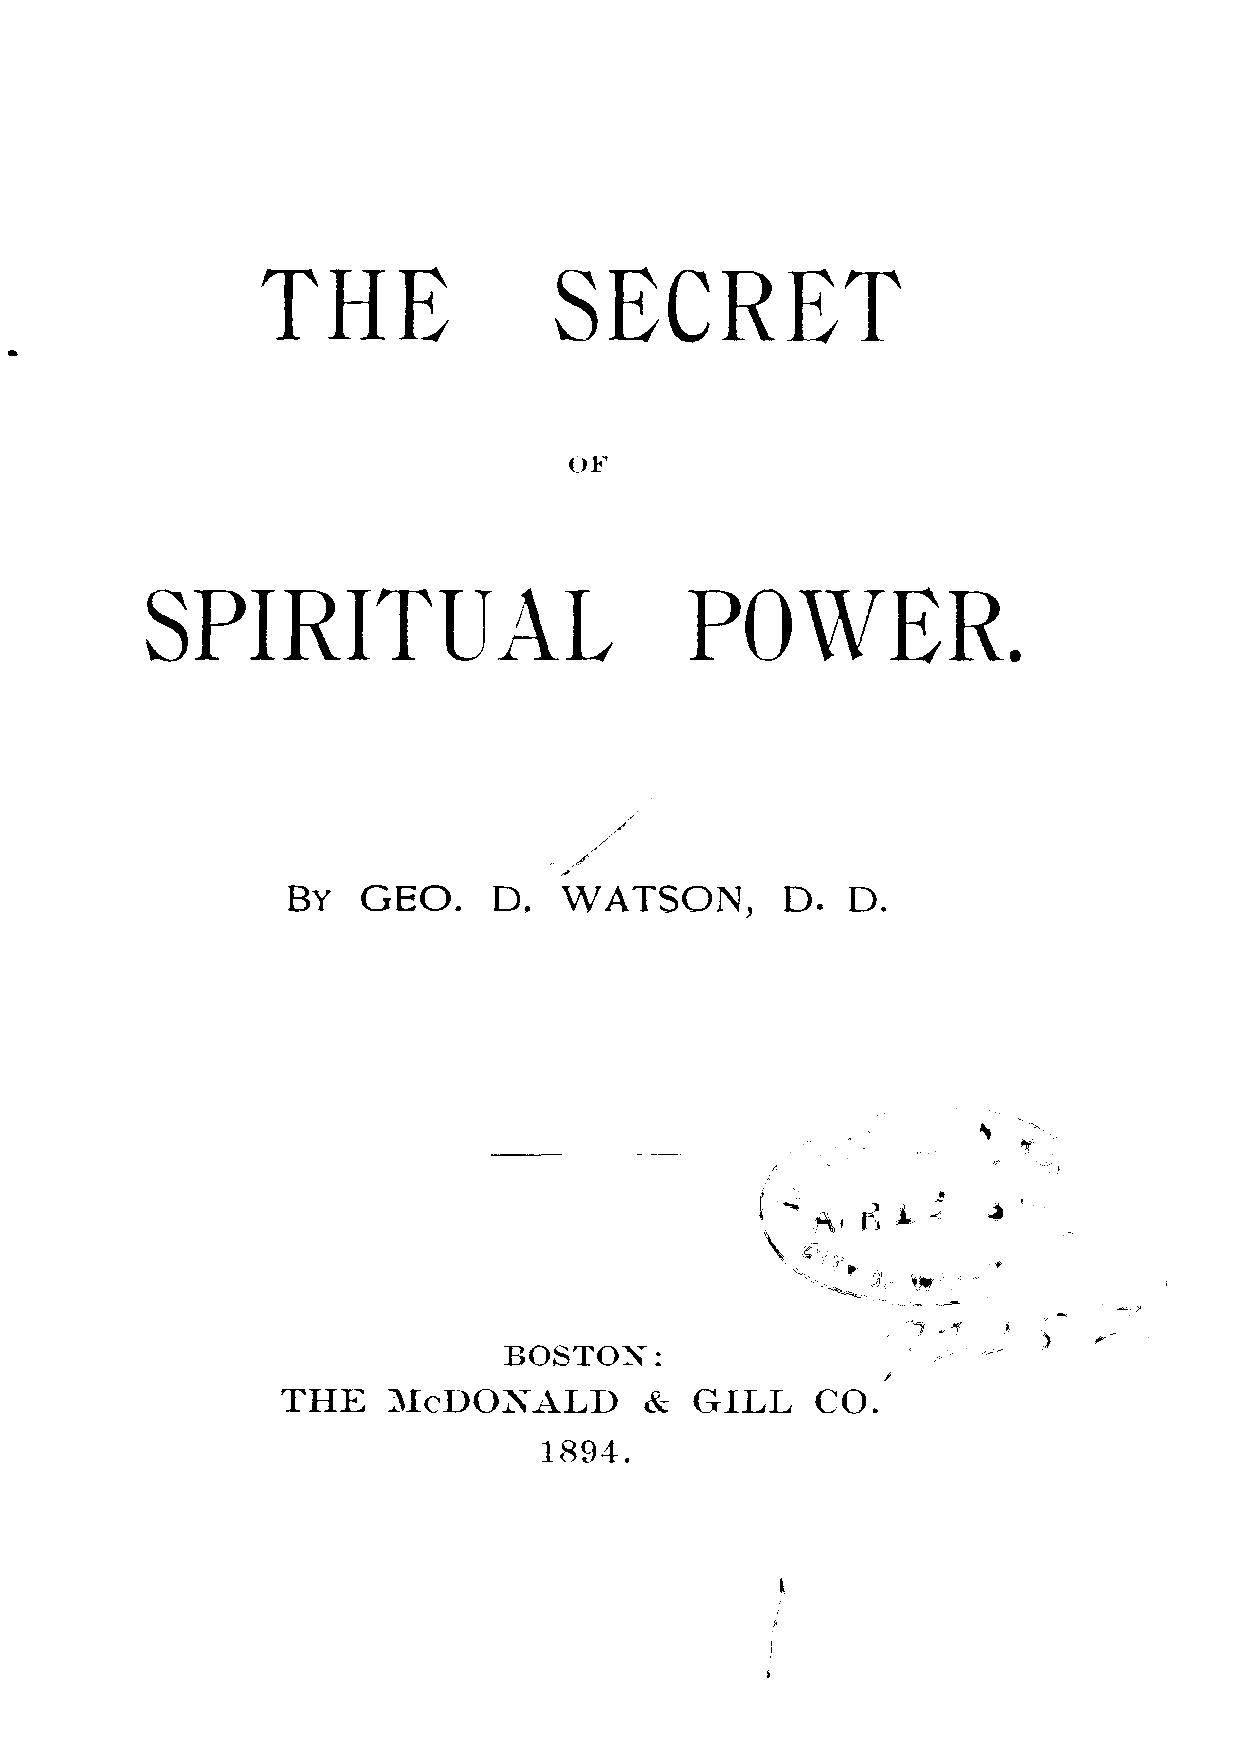author: (282, 880, 886, 915)
title: (141, 264, 1023, 670)
